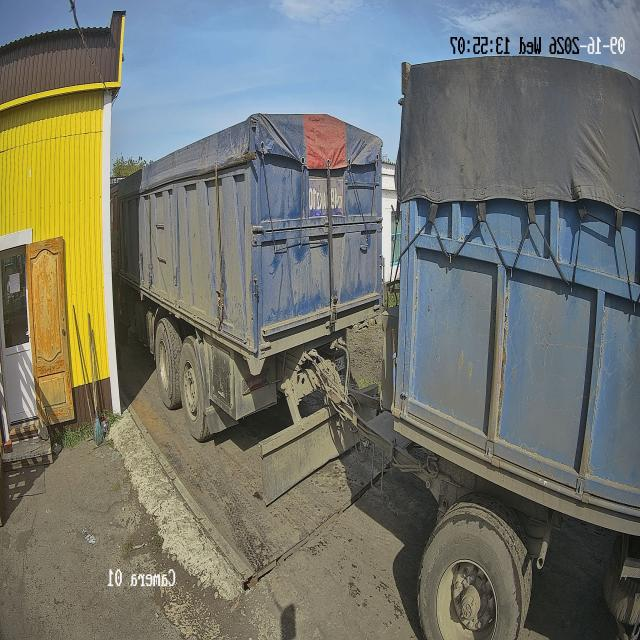license plate: (308, 177, 328, 216), (330, 177, 344, 215), (334, 355, 346, 371)
trailer: (369, 56, 640, 639), (118, 114, 382, 503), (347, 367, 348, 368)
